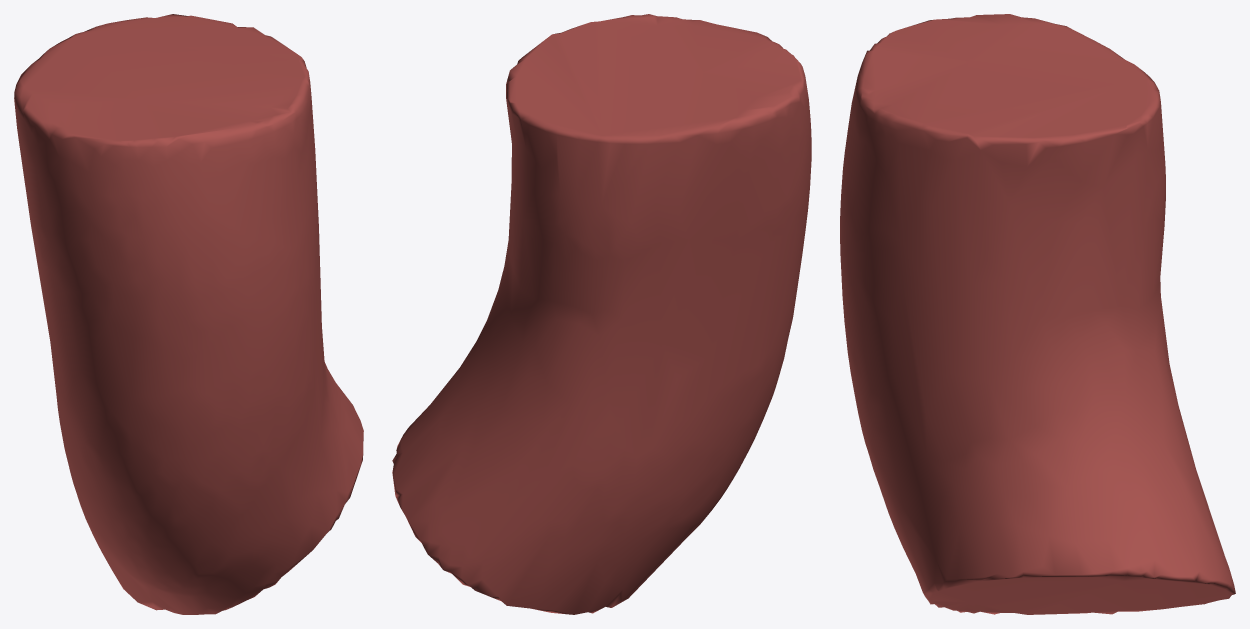
The model's file is FMA3736.glb.
3 renders of one model, left to right at view 1: azimuth 30°, elevation 25°; view 2: azimuth 150°, elevation 25°; view 3: azimuth 270°, elevation 25°, orthographic. The views are drawn at different scales.
Parts seen in each view (by area): view 1: FMA3736; view 2: FMA3736; view 3: FMA3736.
Part boxes in pixels (x1,y1,x2,y2): FMA3736: [14, 14, 363, 614]; FMA3736: [392, 14, 811, 614]; FMA3736: [840, 14, 1235, 614].
Size of the model in its own units: 0.0347 by 0.0511 by 0.0341.
